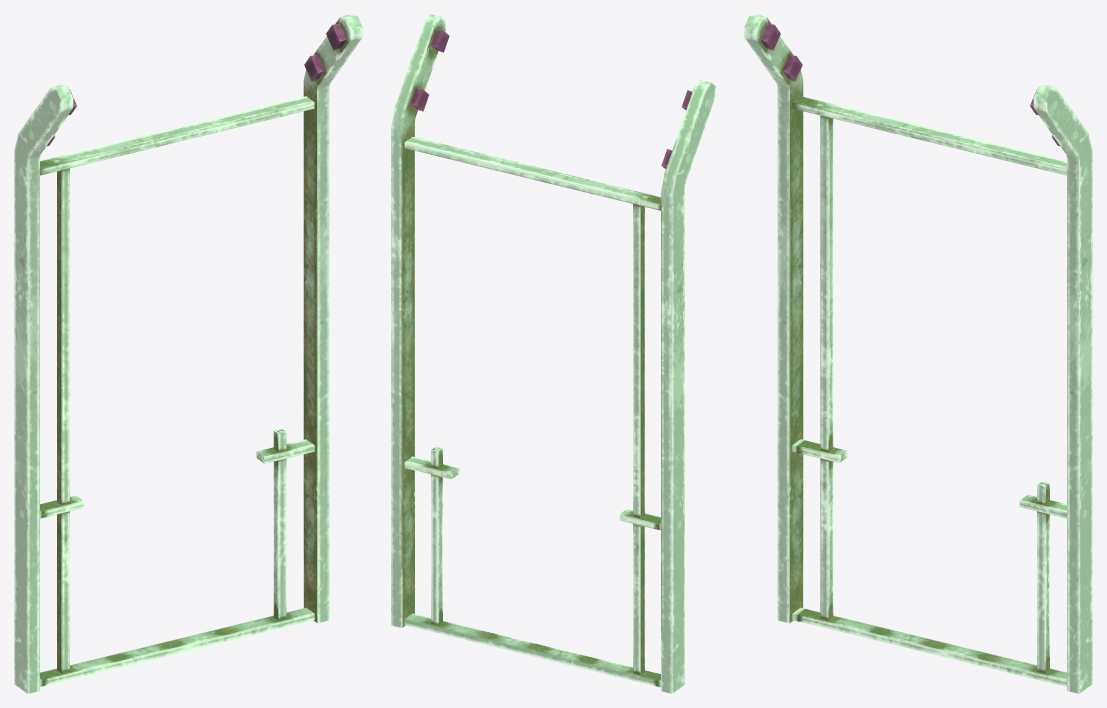
The model's file is CityMiscWalls_Laser_Fence_Broken.glb.
3 renders of one model, left to right at view 1: azimuth 30°, elevation 25°; view 2: azimuth 150°, elevation 25°; view 3: azimuth 330°, elevation 25°, orthographic. The views are drawn at different scales.
Visible parts, largest first — view 1: Laser_fence_broken; view 2: Laser_fence_broken; view 3: Laser_fence_broken.
Part boxes in pixels (x1,y1,x2,y2): Laser_fence_broken: [14, 14, 362, 693]; Laser_fence_broken: [391, 14, 715, 693]; Laser_fence_broken: [744, 14, 1092, 693].
Bounding box in the file's own units: 1.03 × 2.04 × 0.2785.
